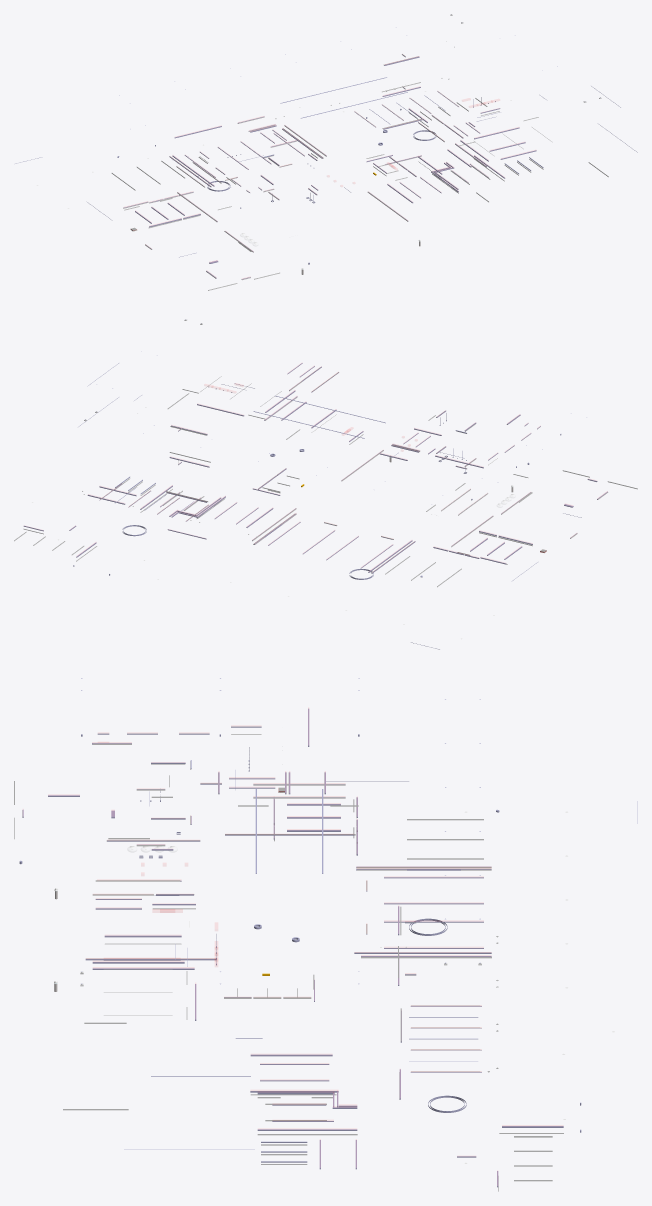
Rendered from grimes-lighting.glb.
3 renders of one model, top to bottom at view 1: azimuth 30°, elevation 25°; view 2: azimuth 150°, elevation 25°; view 3: azimuth 270°, elevation 25°, orthographic. The views are drawn at different scales.
Visible parts, largest first — view 1: layer:lighting; view 2: layer:lighting; view 3: layer:lighting.
Boxes of the visible parts, left/top/right/bottom form: layer:lighting: left=15, top=14, right=637, bottom=290; layer:lighting: left=14, top=319, right=637, bottom=649; layer:lighting: left=14, top=678, right=637, bottom=1191.
Size of what is drawn, in the model's own units: 69.27 by 16.25 by 49.41.
